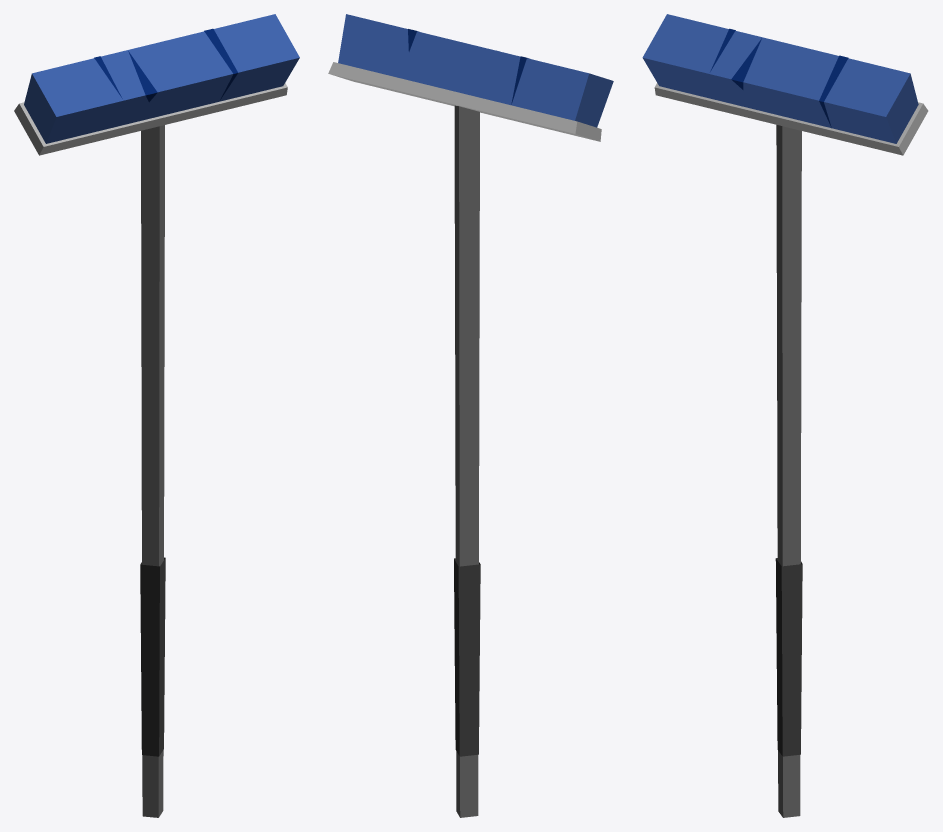
The model's file is Item_FloorBrush02.FBX.
3 views of the same model, side by side, from view 1: azimuth 30°, elevation 25°; view 2: azimuth 150°, elevation 25°; view 3: azimuth 330°, elevation 25° (orthographic).
Parts seen in each view (by area): view 1: Item_FloorBrush02; view 2: Item_FloorBrush02; view 3: Item_FloorBrush02.
Part boxes in pixels (x1=…): Item_FloorBrush02: x1=14, y1=14, x2=299, y2=817; Item_FloorBrush02: x1=328, y1=14, x2=613, y2=817; Item_FloorBrush02: x1=642, y1=14, x2=928, y2=817.
Bounding box in the file's own units: 40.74 × 121 × 11.61.
